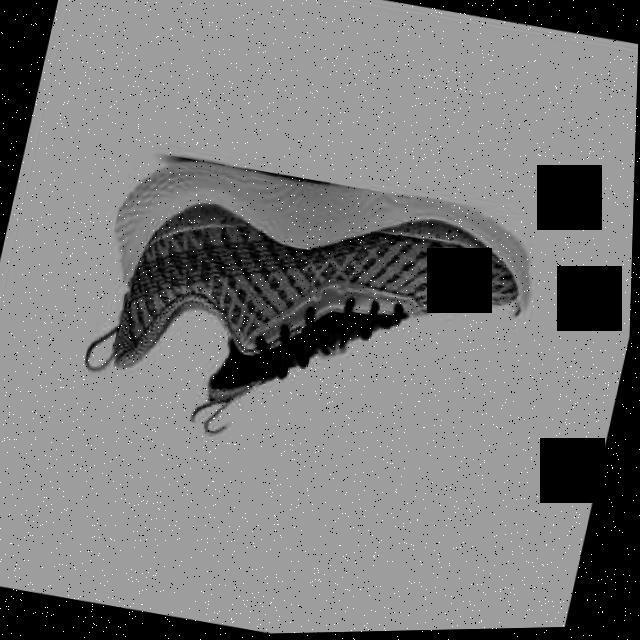shoe: (76, 142, 547, 488)
